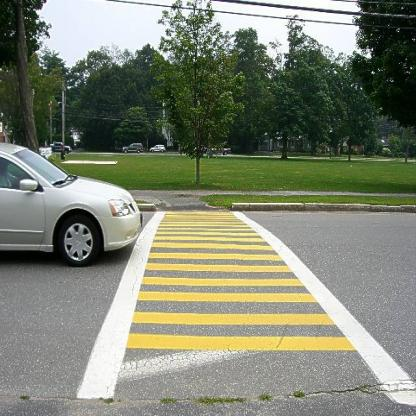Crosswalk: (45, 210, 408, 403)
